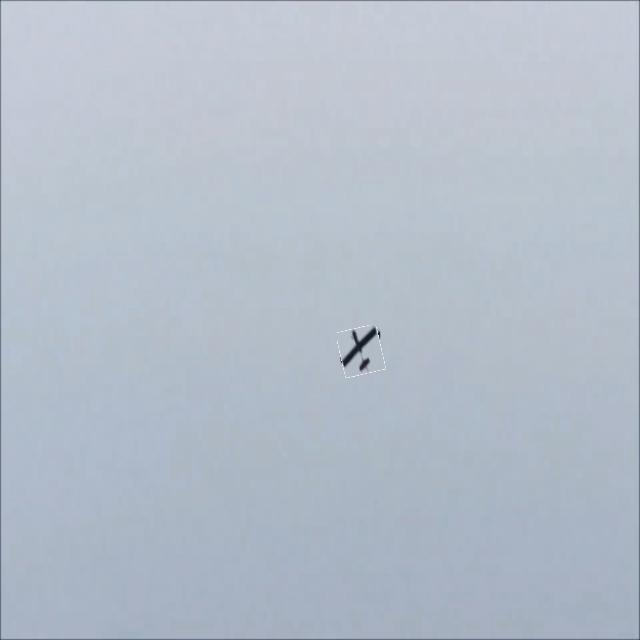UAV: (327, 323, 377, 388)
